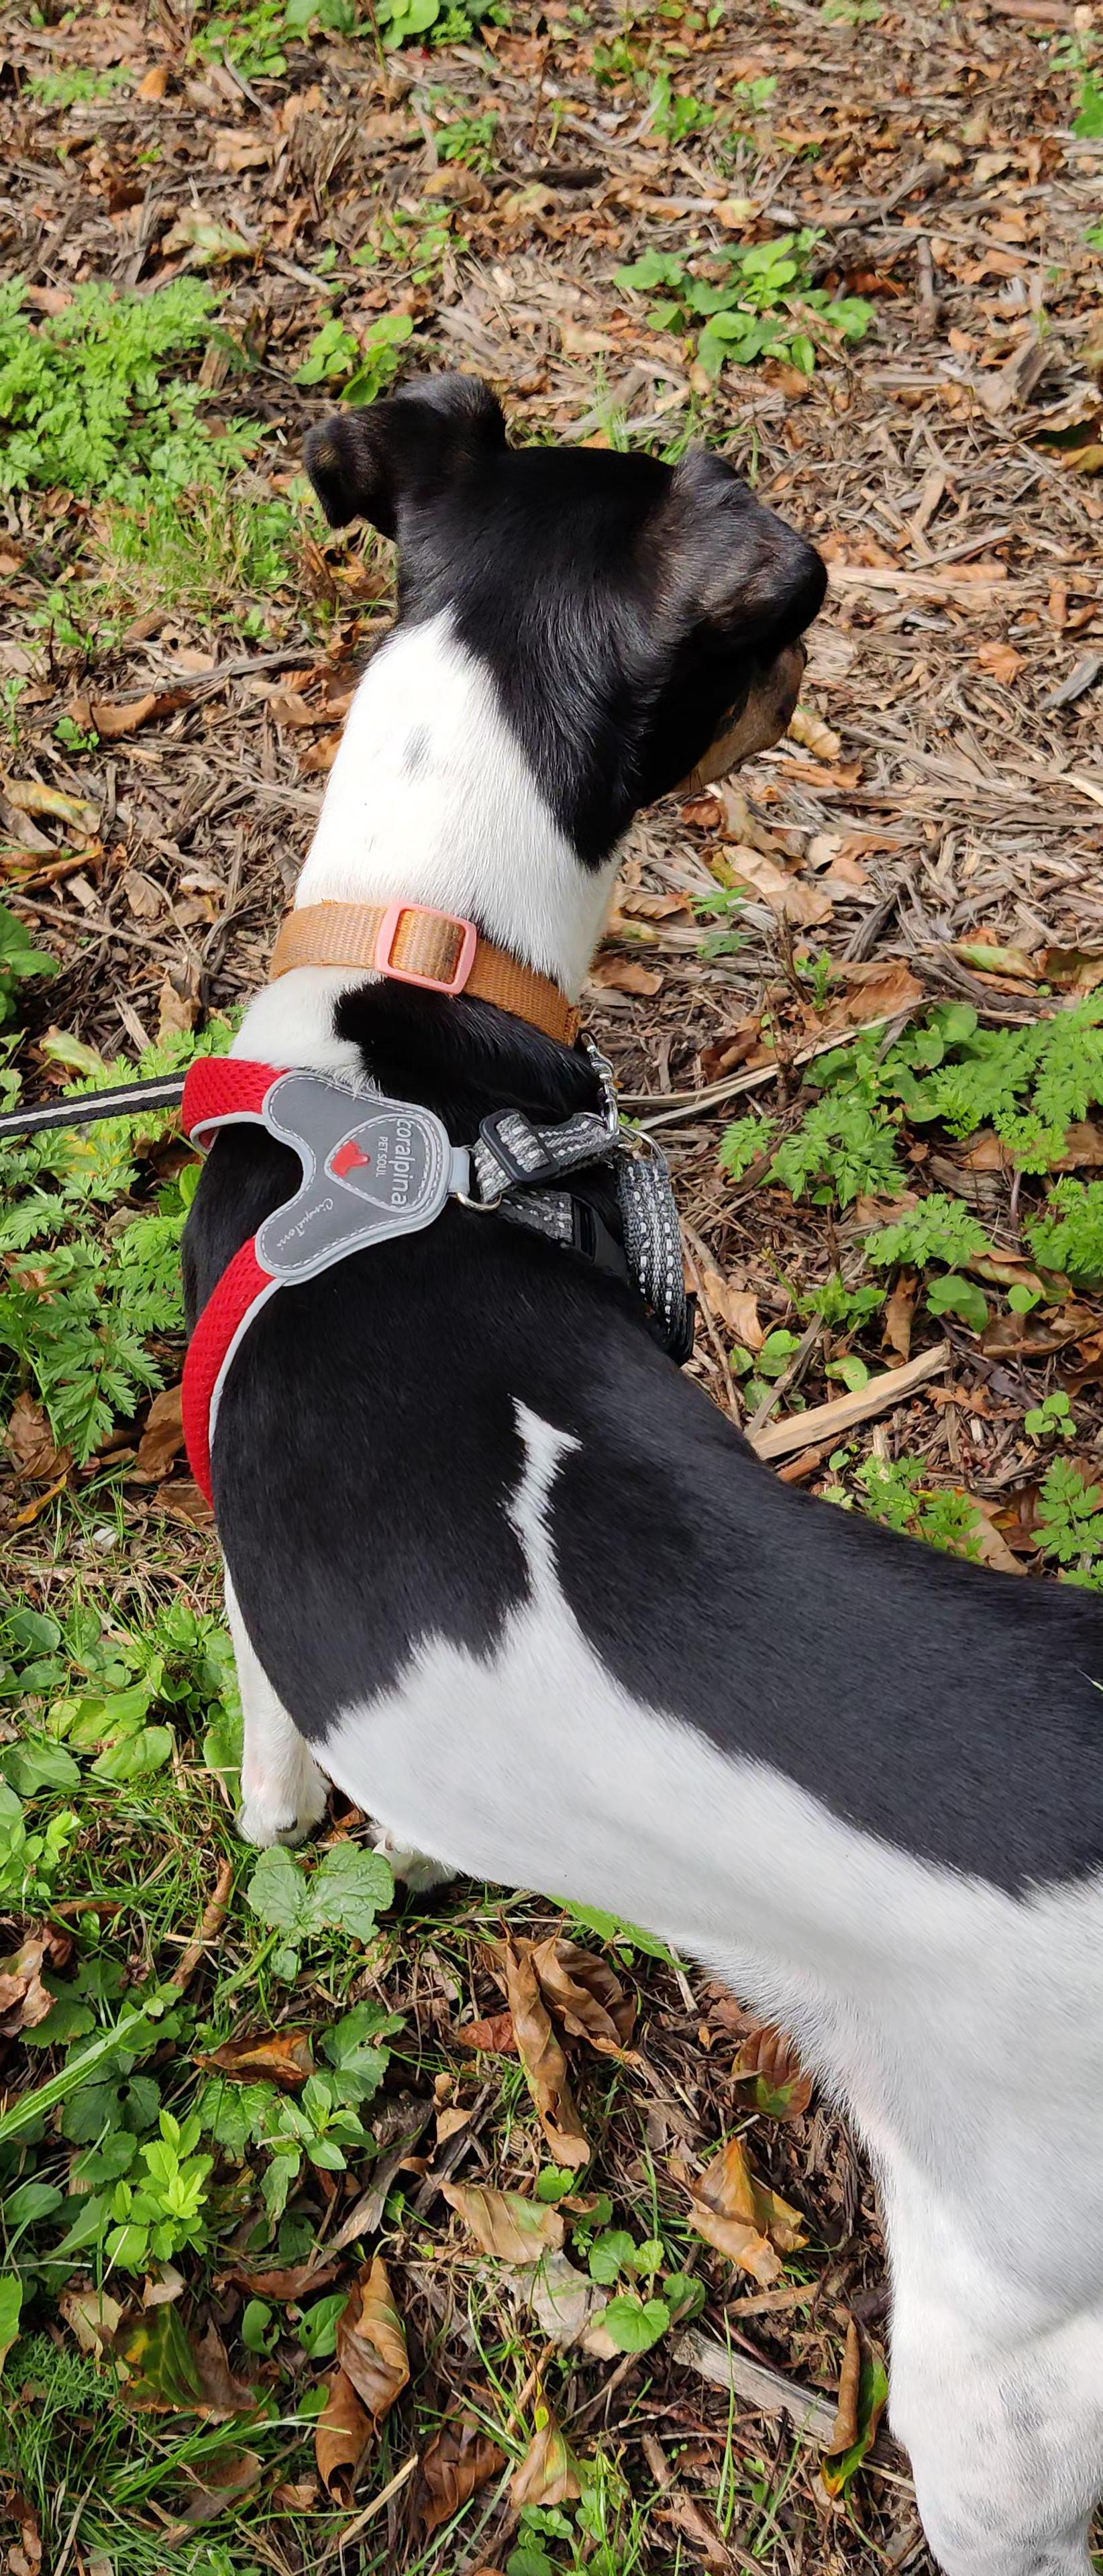Dog: (161, 366, 1103, 2576)
